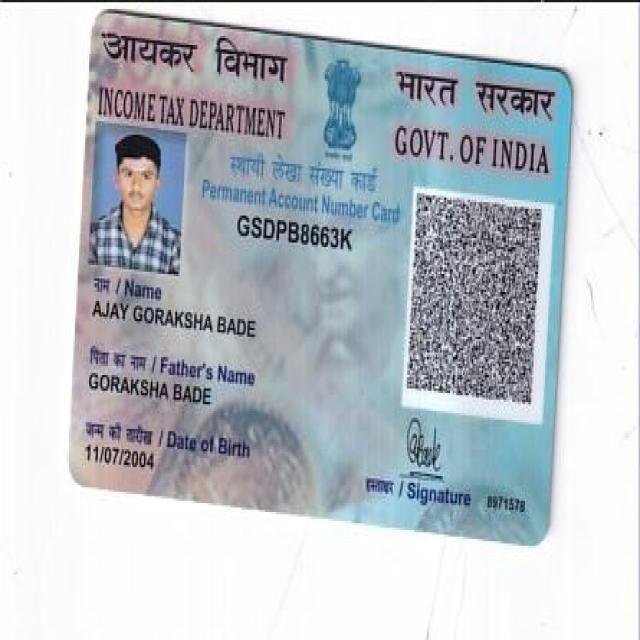pan_card: (66, 10, 573, 550)
